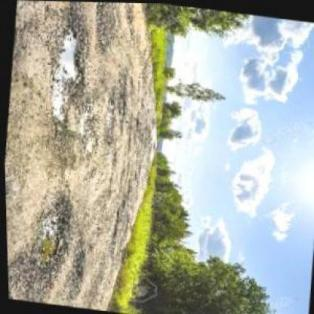Hueco: (43, 7, 95, 133), (22, 194, 75, 285), (63, 246, 88, 288)
